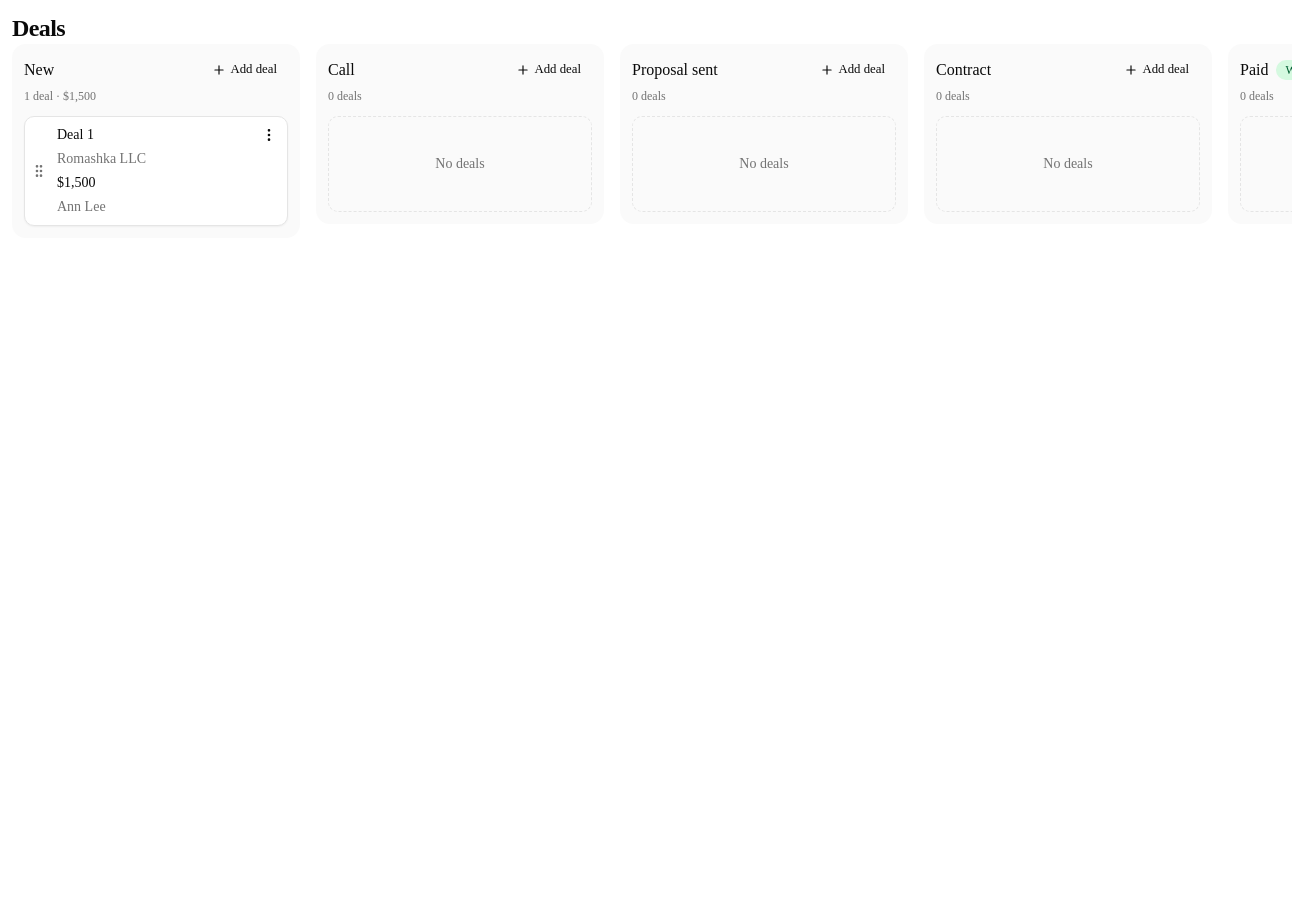
Test: DealBoard › failed moves › should drop Edit deal from the toast when a later move fails for another reason
The width and height of the screenshot is (1304, 912).
Click the button named "Actions for Deal 1". click: (269, 135)
box: [255,121,283,149]
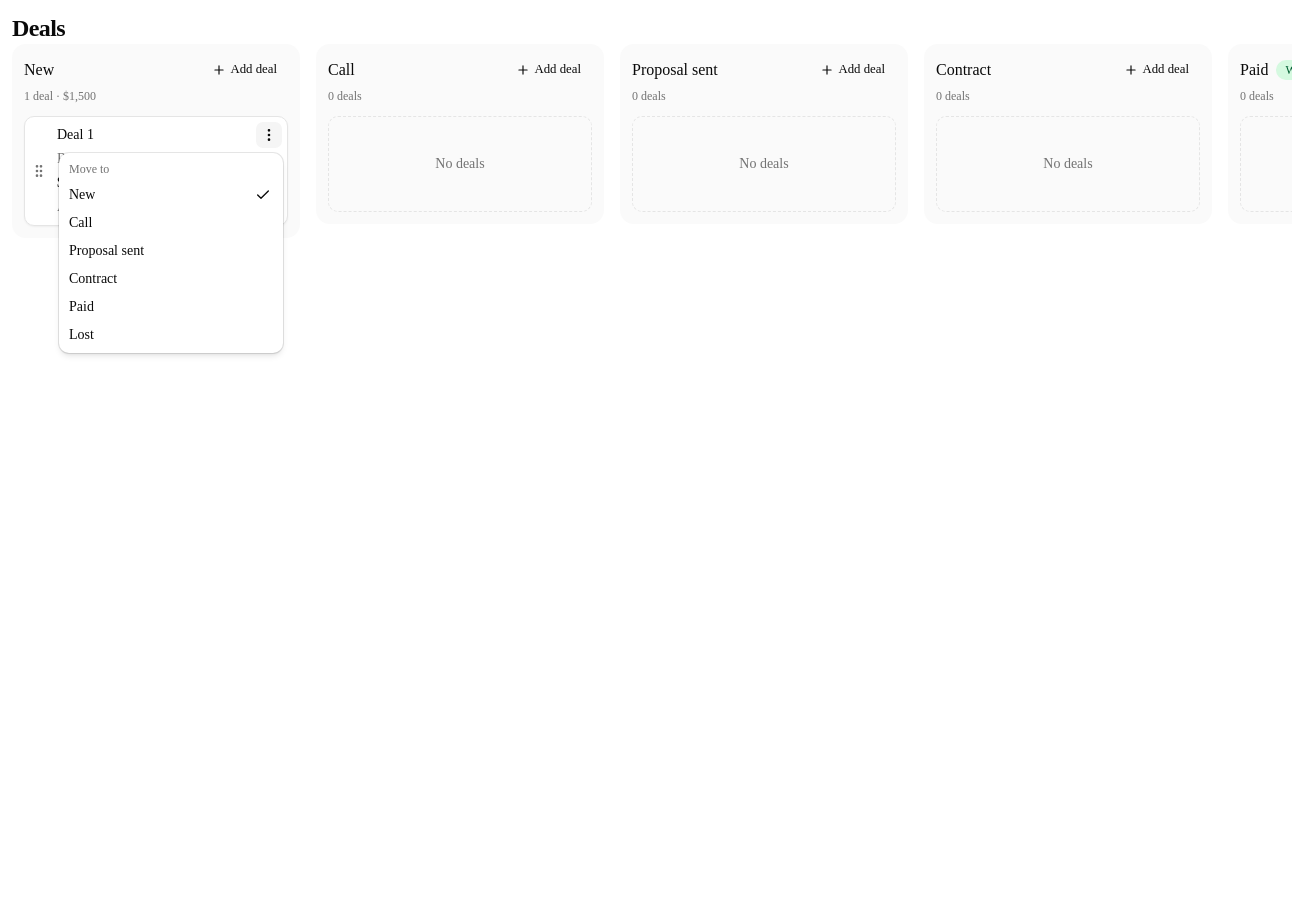
Click the menu item "Call". click: (81, 222)
box: [69,215,92,230]
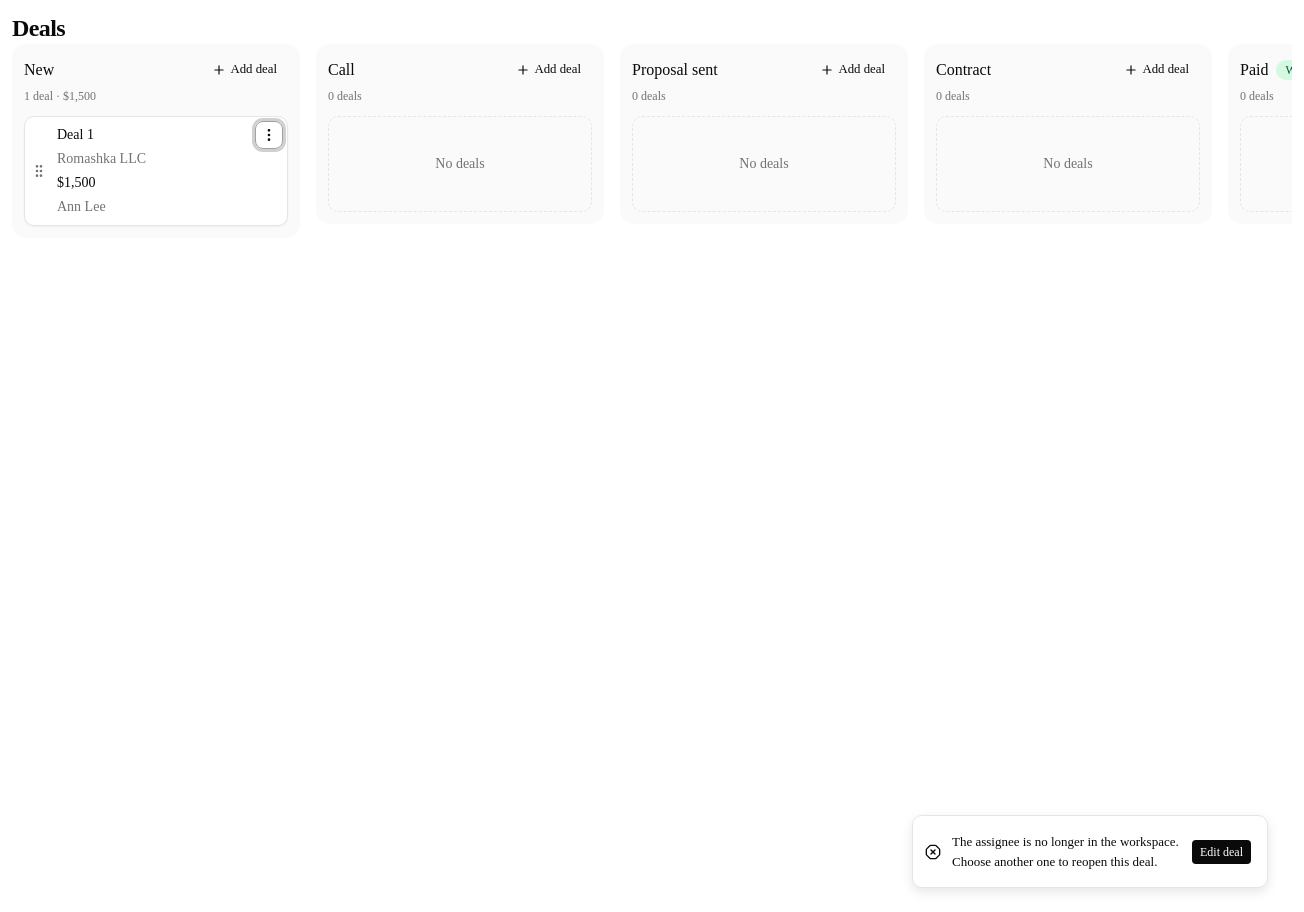
Now the button "Edit deal" is shown, box [1192,840,1251,864]
Click the button named "Actions for Deal 1". click: (269, 135)
box: [255,121,283,149]
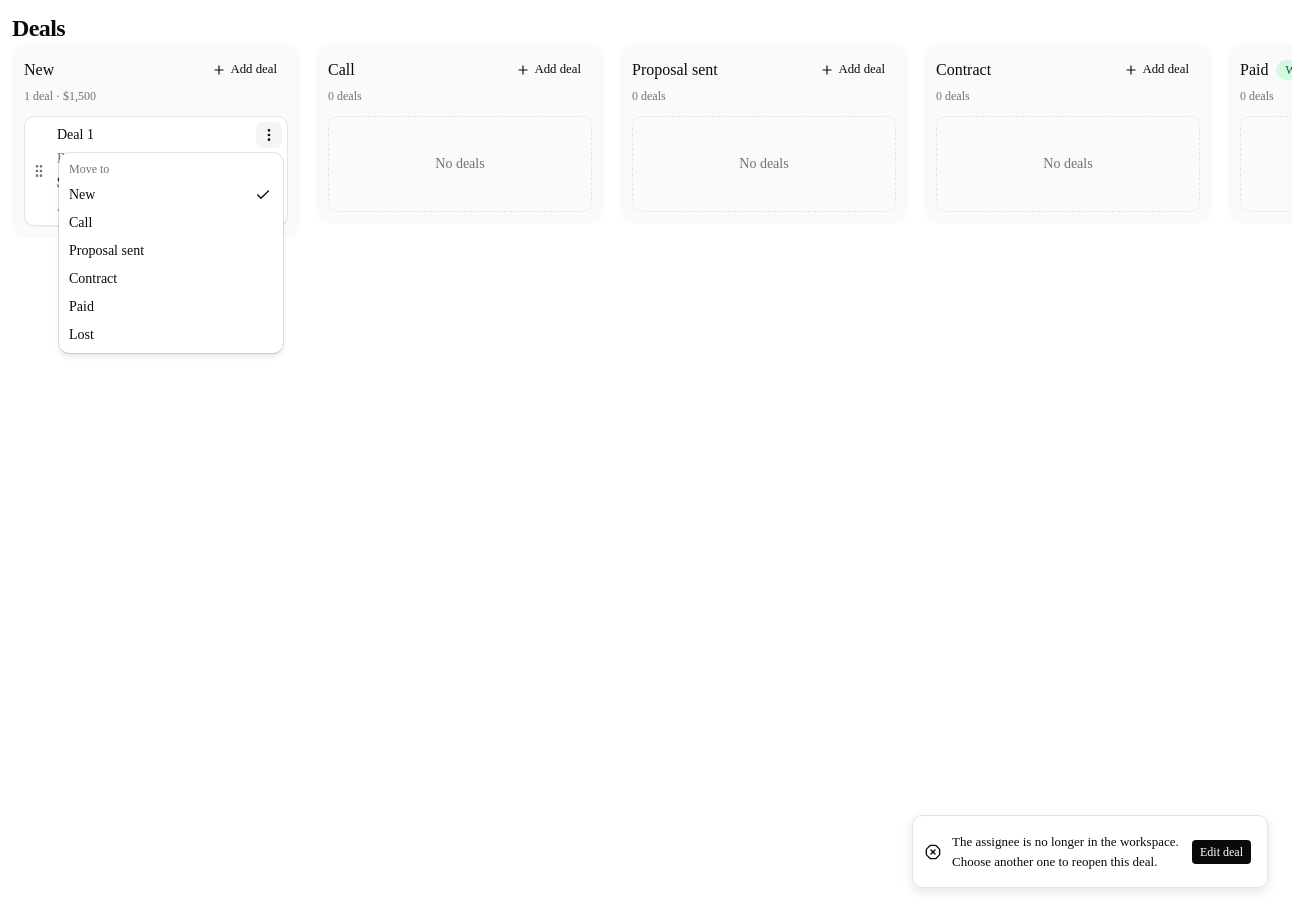
Click the menu item "Call". click: (81, 222)
box: [69,215,92,230]
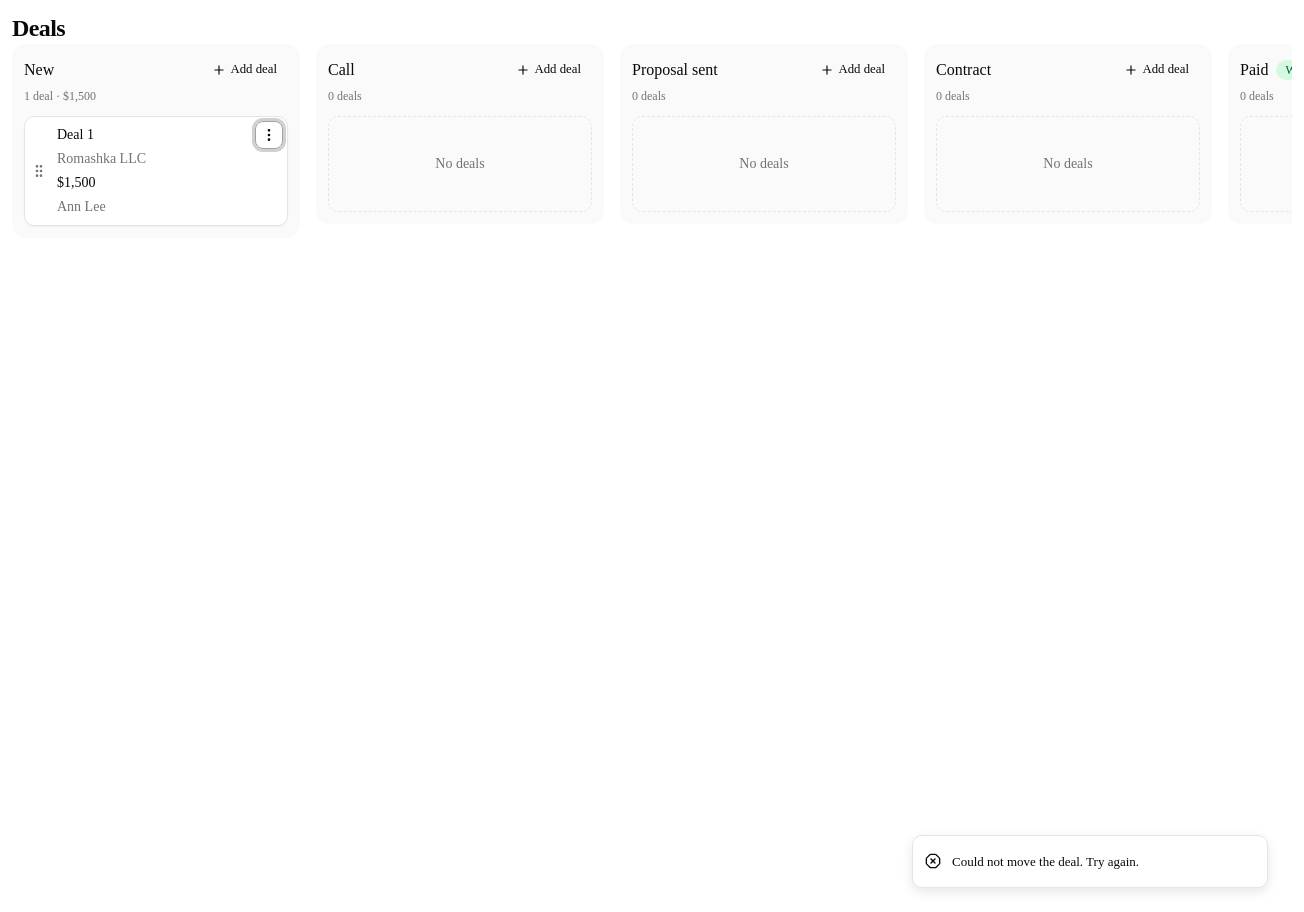
Now the text "Could not move the deal. Try again." is shown, box [952,852,1139,871]
Now the button "Edit deal" is gone
